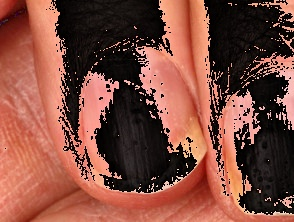Nail_psoriasis: (80, 76, 224, 220), (218, 86, 294, 221)
